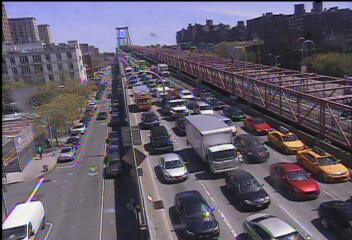neg: (202, 107, 222, 134), (45, 117, 64, 143), (287, 132, 304, 156), (121, 95, 131, 109)
